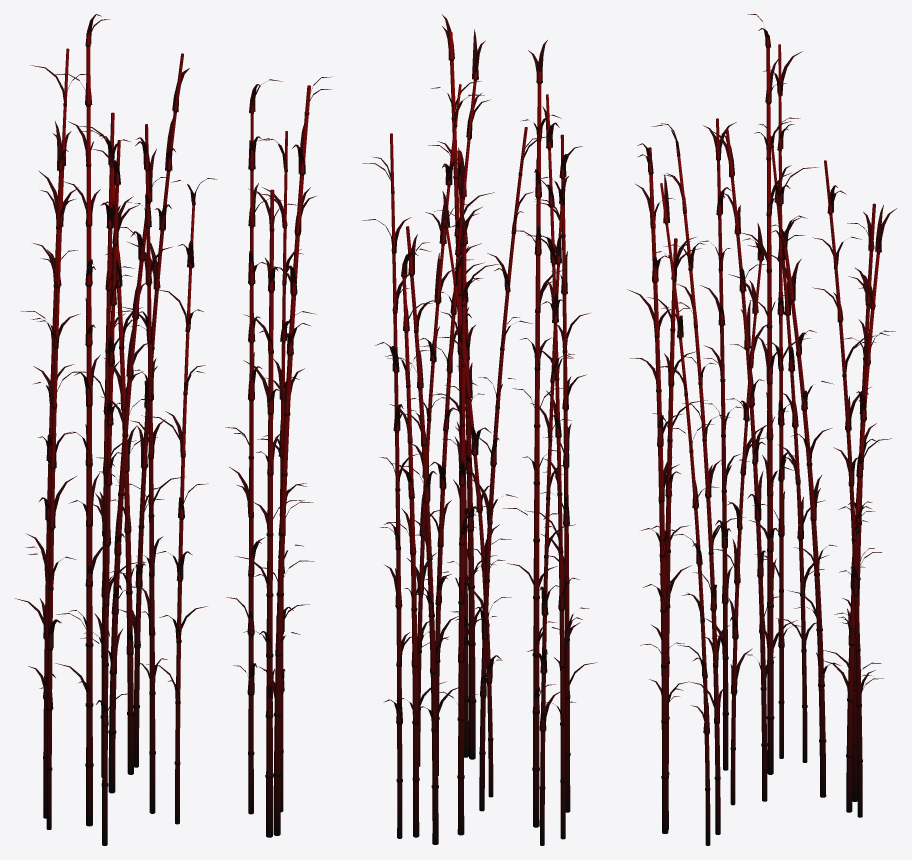
The model's file is bamboo_stand_v2.fbx.
3 views of the same model, side by side, from view 1: azimuth 30°, elevation 25°; view 2: azimuth 150°, elevation 25°; view 3: azimuth 270°, elevation 25° (orthographic). The views are drawn at different scales.
Visible parts, largest first — view 1: bamboo_stand_v2; view 2: bamboo_stand_v2; view 3: bamboo_stand_v2.
Boxes of the visible parts, left/top/right/bottom form: bamboo_stand_v2: left=15, top=14, right=332, bottom=845; bamboo_stand_v2: left=362, top=14, right=597, bottom=845; bamboo_stand_v2: left=627, top=14, right=896, bottom=845.
Size of the model in its own units: 182 by 612 by 198.
